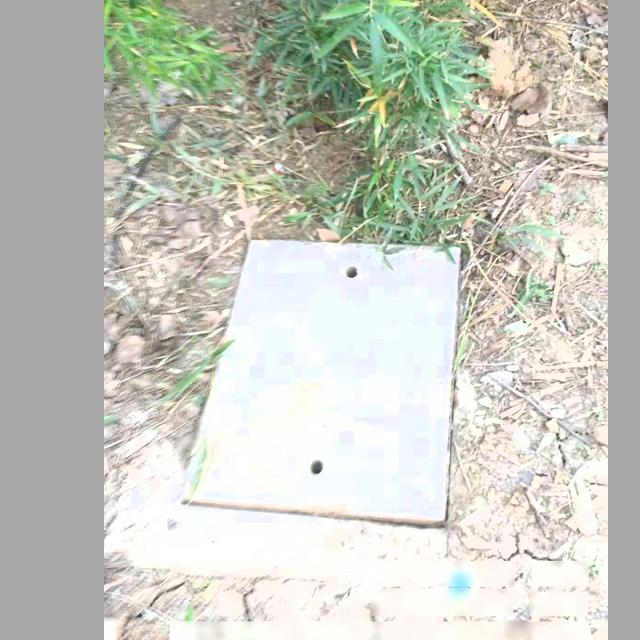good: (180, 237, 463, 529)
